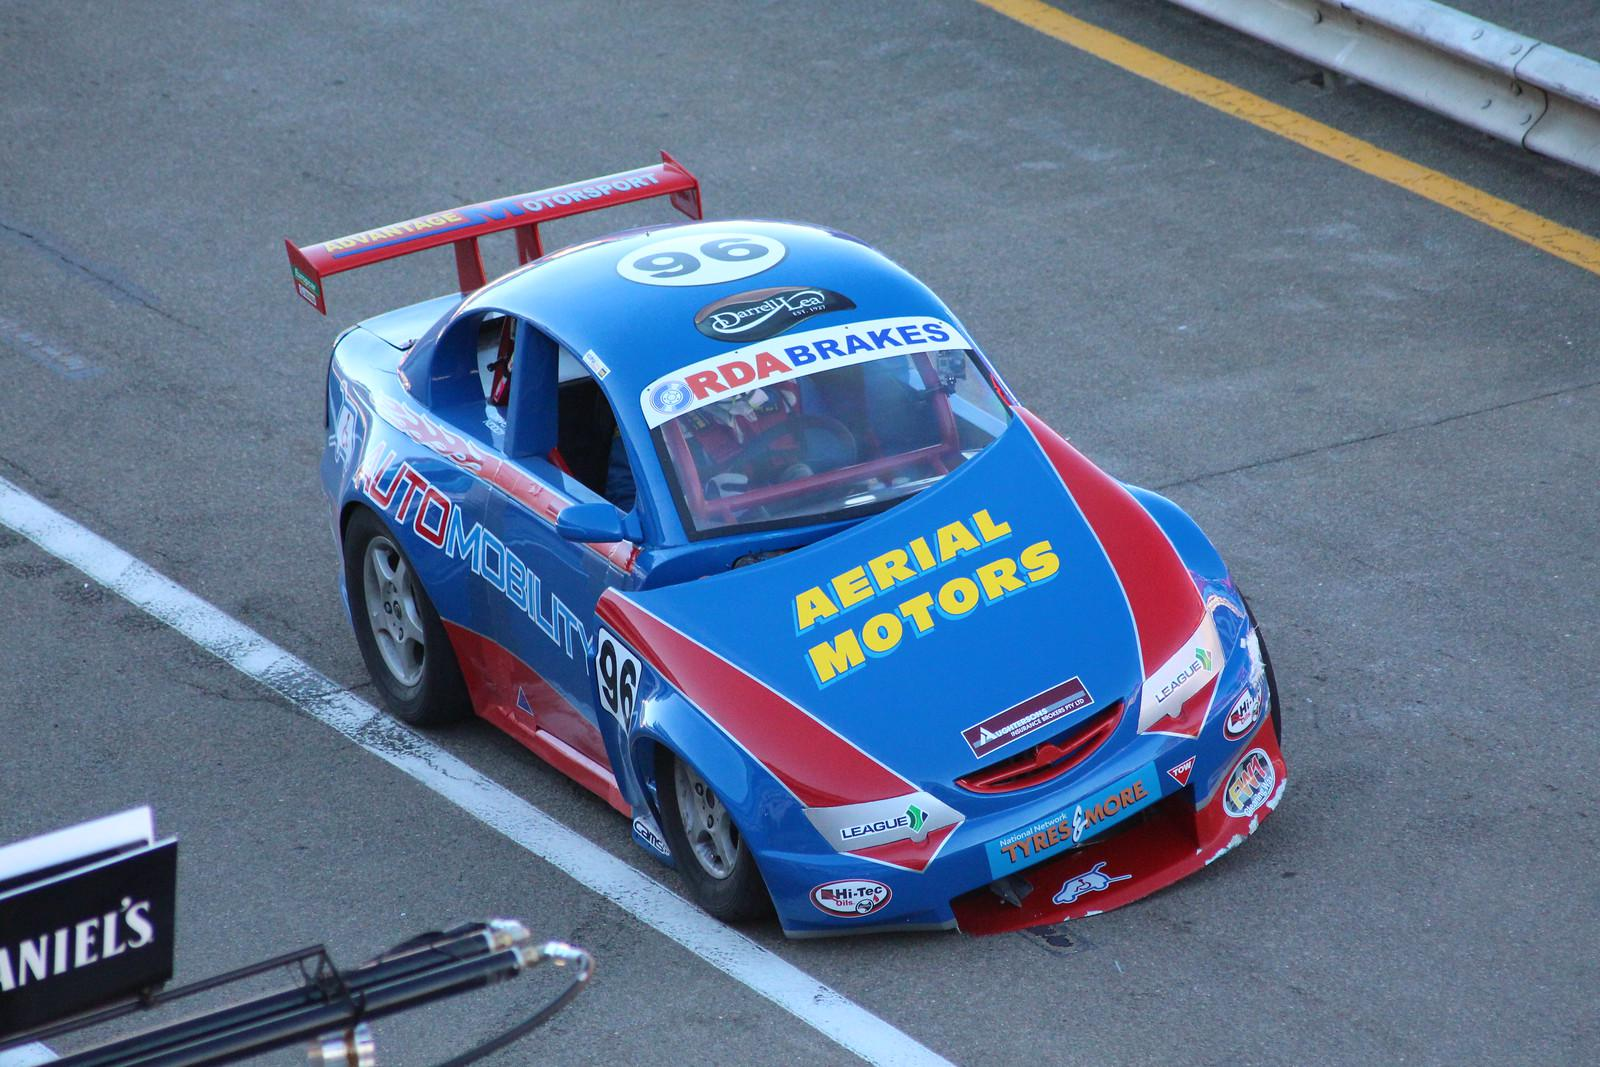front-bumper-dent: (758, 803, 1290, 919)
